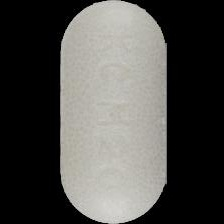55289-444: (0, 0, 224, 224)
